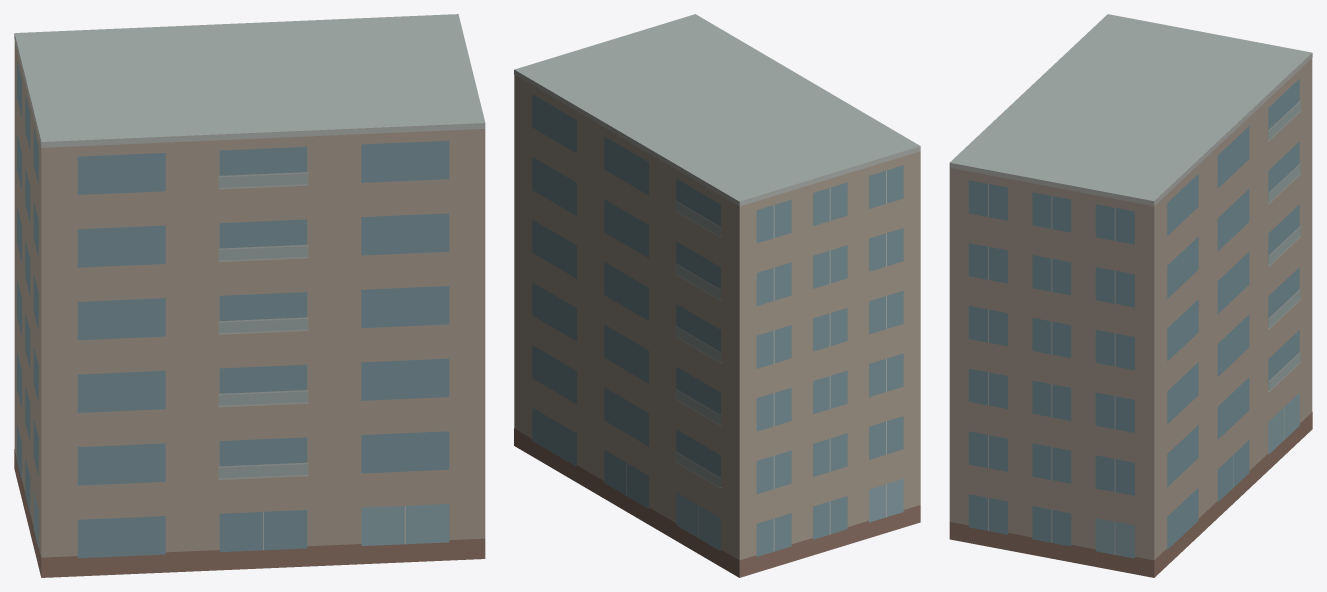
Rendered from survey-upis-32659161.glb.
3 views of the same model, side by side, from view 1: azimuth 30°, elevation 25°; view 2: azimuth 150°, elevation 25°; view 3: azimuth 270°, elevation 25° (orthographic). The views are drawn at different scales.
Parts seen in each view (by area): view 1: survey-upis-32659161.tmp; view 2: survey-upis-32659161.tmp; view 3: survey-upis-32659161.tmp.
Boxes of the visible parts, <box> form: survey-upis-32659161.tmp: <box>14,14,485,577</box>; survey-upis-32659161.tmp: <box>514,14,920,577</box>; survey-upis-32659161.tmp: <box>949,14,1312,577</box>.
Size of the model in its own units: 19.52 by 18.3 by 15.99.
